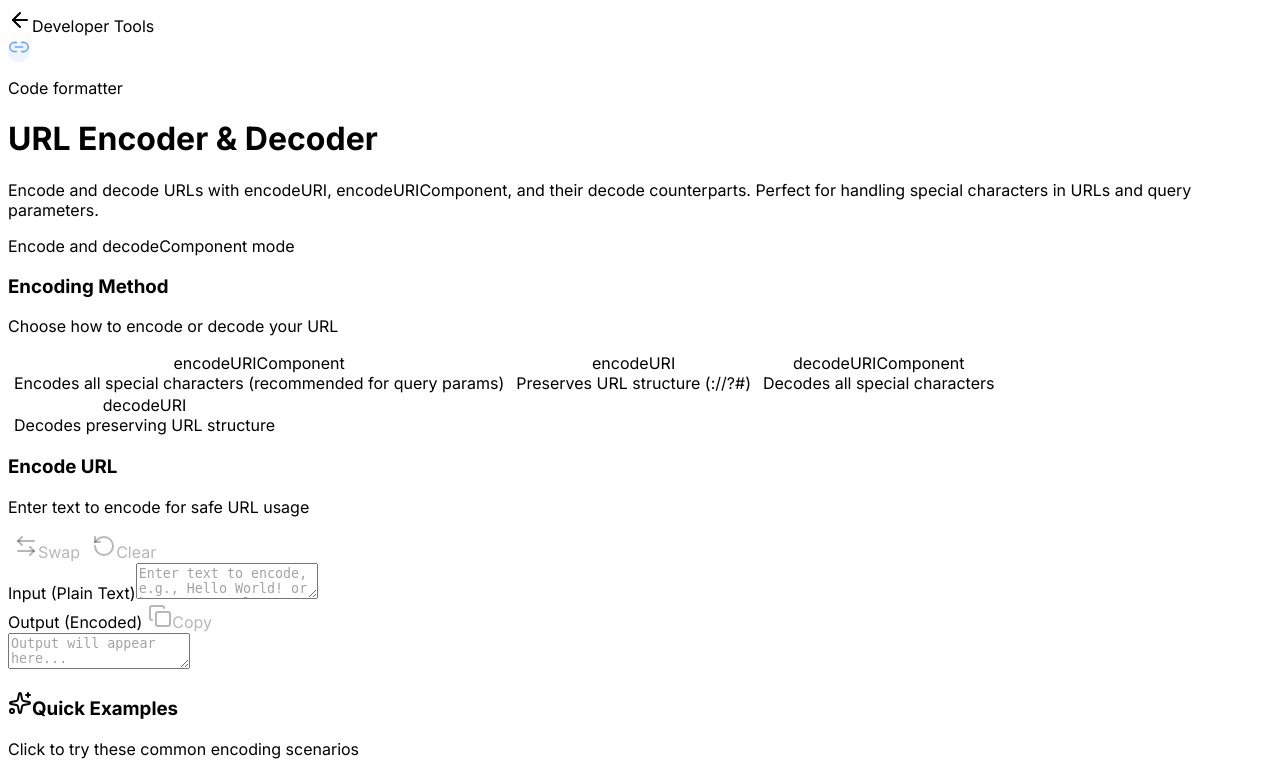
Test: URLEncoderPage › Encoding Methods › encodes text using encodeURIComponent by default
Type "Hello World!" into the text box labelled "Input (Plain Text)" at (227, 581), box [136, 563, 318, 599]
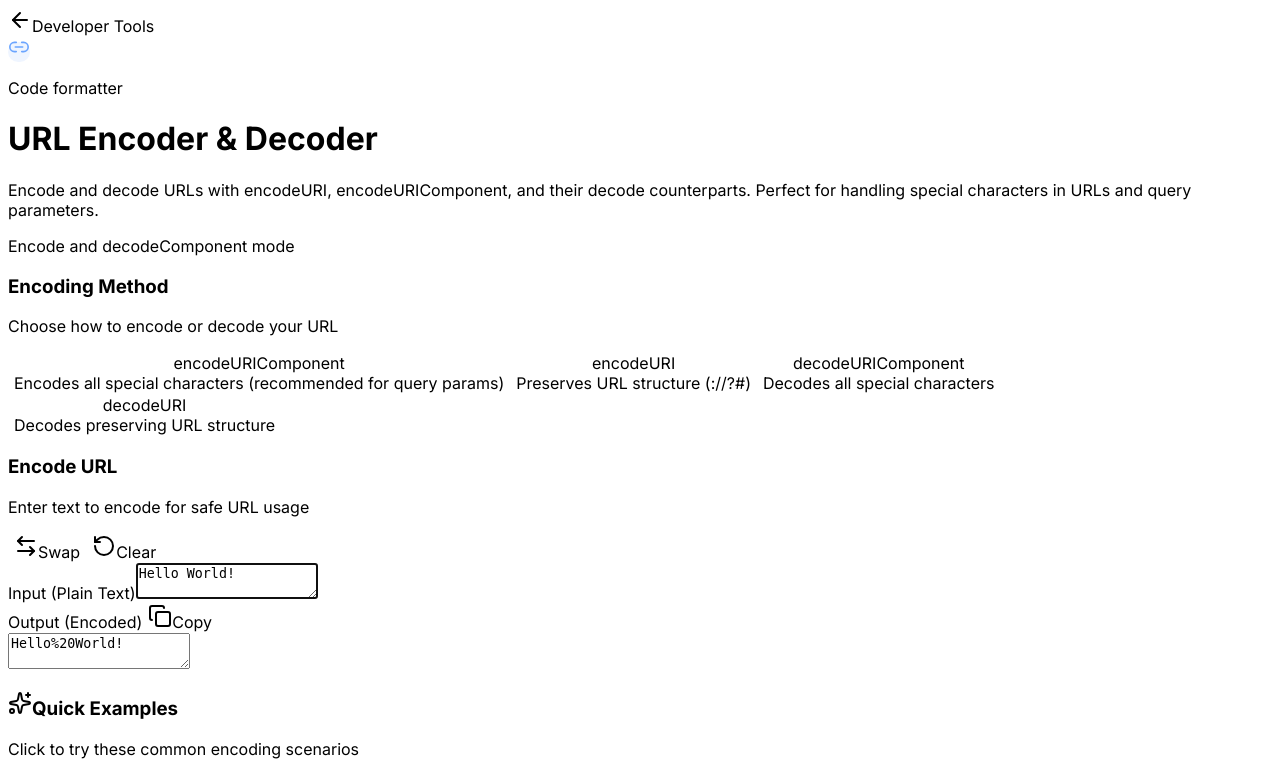
Now the text box labelled "Output (Encoded)" holds "Hello%20World!", box [8, 633, 190, 669]
